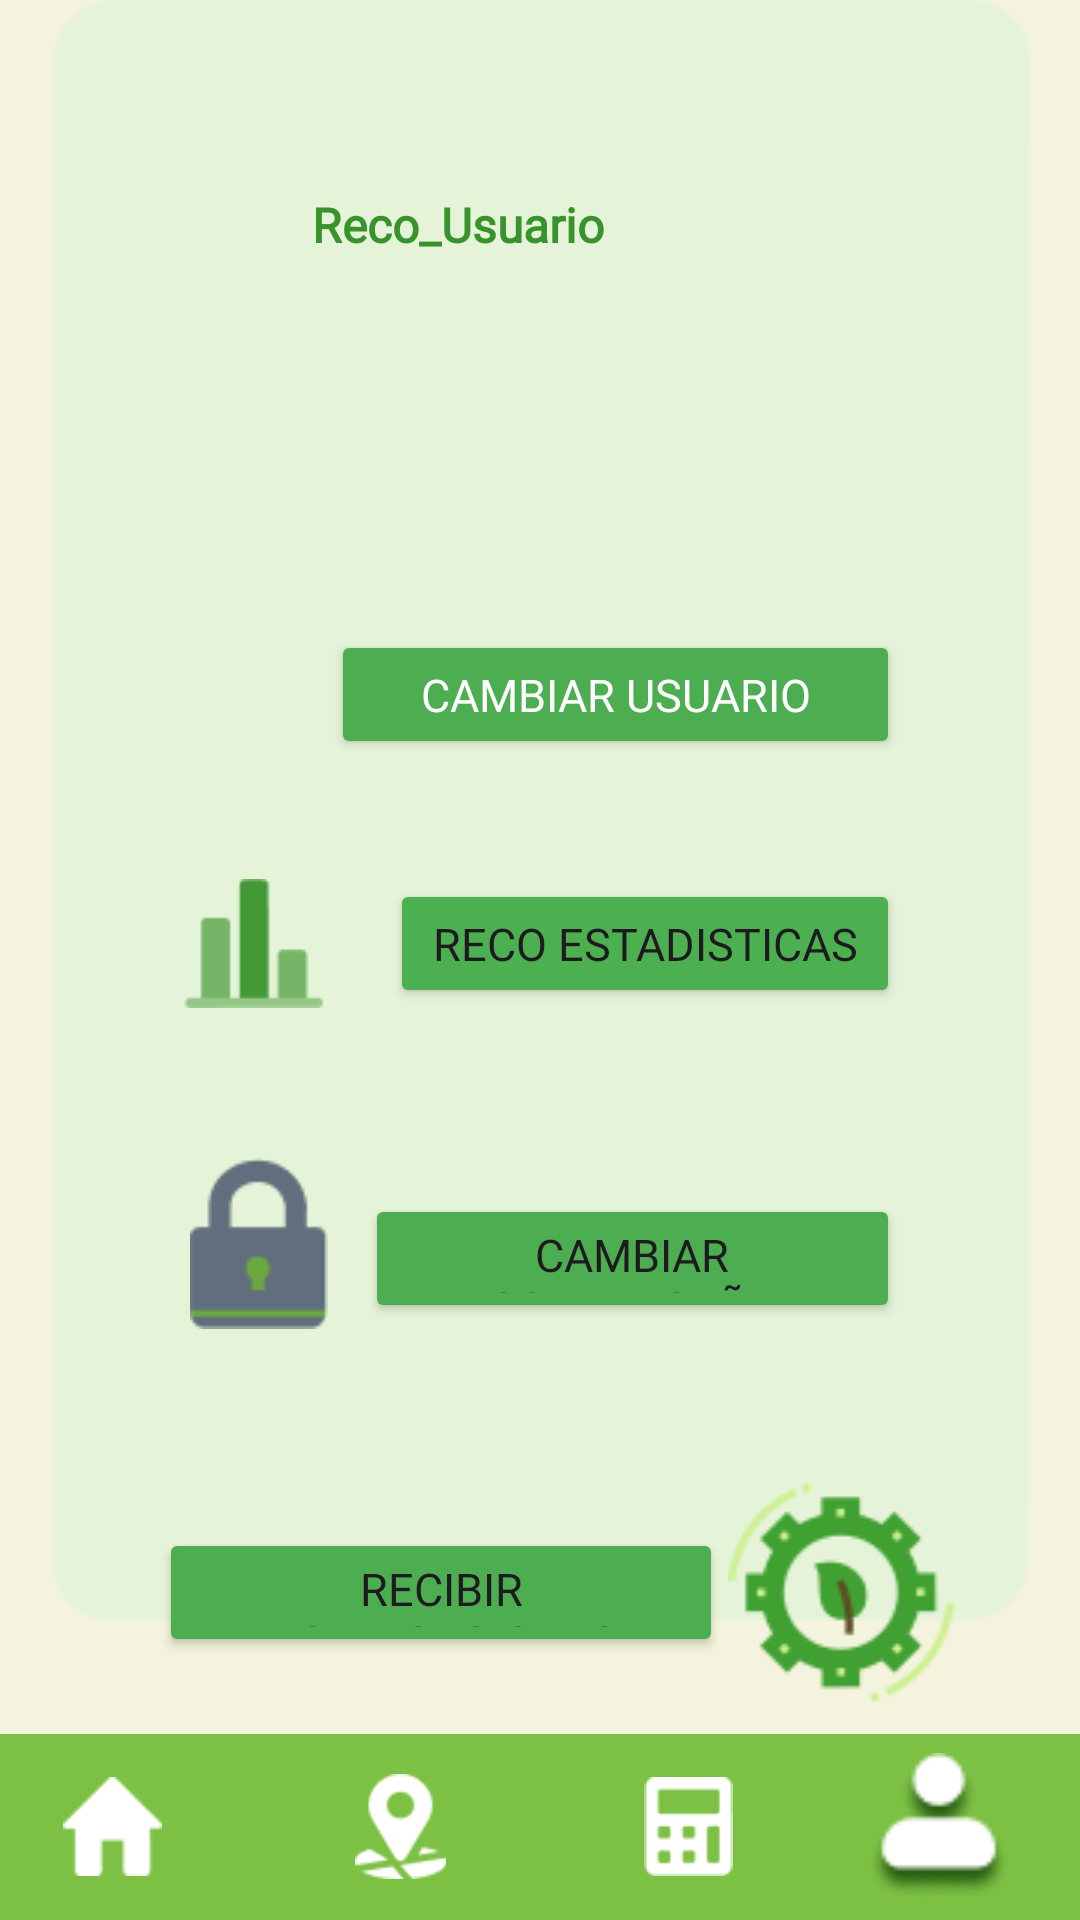

Icons on this 1080 × 1920 Android screen, each with its box as box(x1, y1, x2, y2):
calculator: box(644, 1777, 733, 1876)
gear: box(728, 1483, 956, 1701)
iconocandado: box(190, 1158, 328, 1329)
